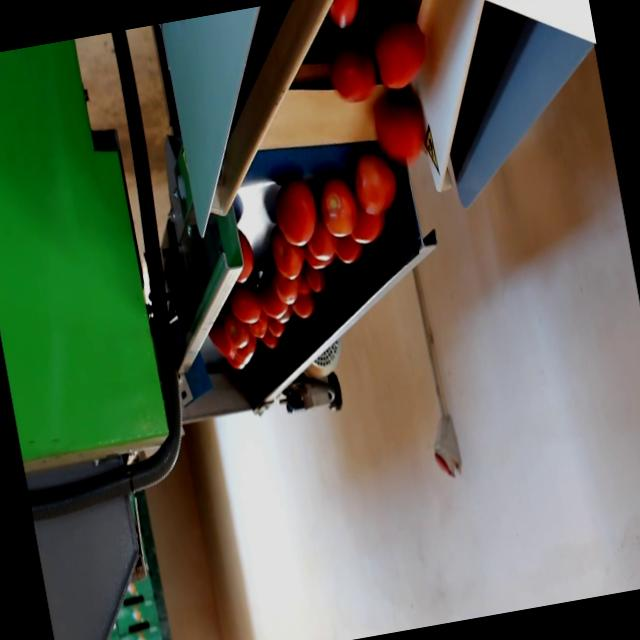Tomato: (373, 17, 435, 94), (374, 98, 434, 167), (266, 180, 322, 247), (330, 50, 381, 109), (354, 154, 402, 215), (319, 186, 357, 236), (268, 228, 304, 280), (327, 0, 370, 34), (351, 207, 386, 248), (233, 234, 261, 284), (229, 288, 265, 326), (304, 230, 338, 268), (258, 281, 288, 319), (290, 280, 314, 325), (225, 316, 252, 354), (277, 272, 302, 304), (336, 239, 361, 265), (308, 266, 326, 294), (270, 316, 286, 342), (252, 321, 266, 344)
